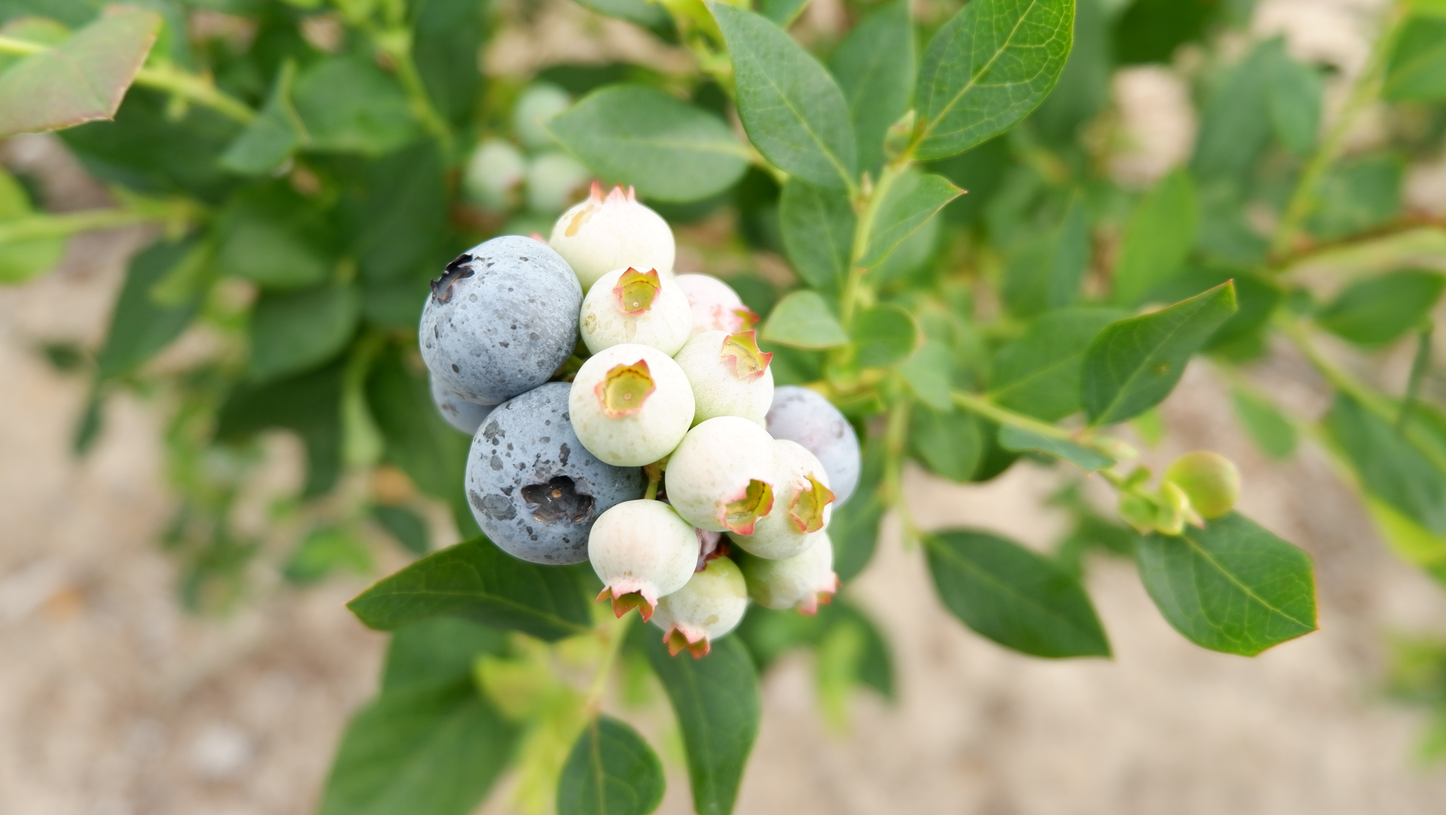Immature: (568, 344, 697, 468), (548, 179, 676, 297), (664, 416, 784, 535), (725, 440, 837, 561), (588, 499, 698, 622), (580, 266, 693, 358), (673, 331, 775, 430), (650, 555, 747, 659), (738, 532, 838, 615), (674, 273, 760, 346)
Mature: (465, 382, 646, 565), (417, 235, 583, 405), (764, 387, 861, 514), (429, 374, 502, 436)
